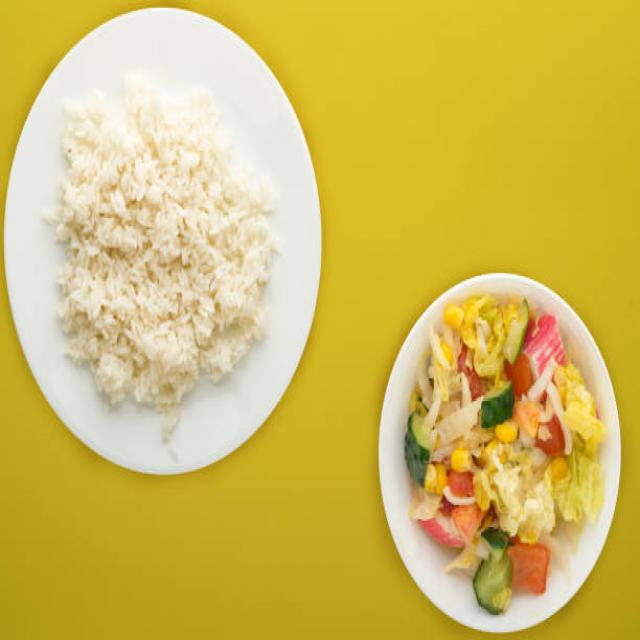rice: (42, 76, 282, 446)
